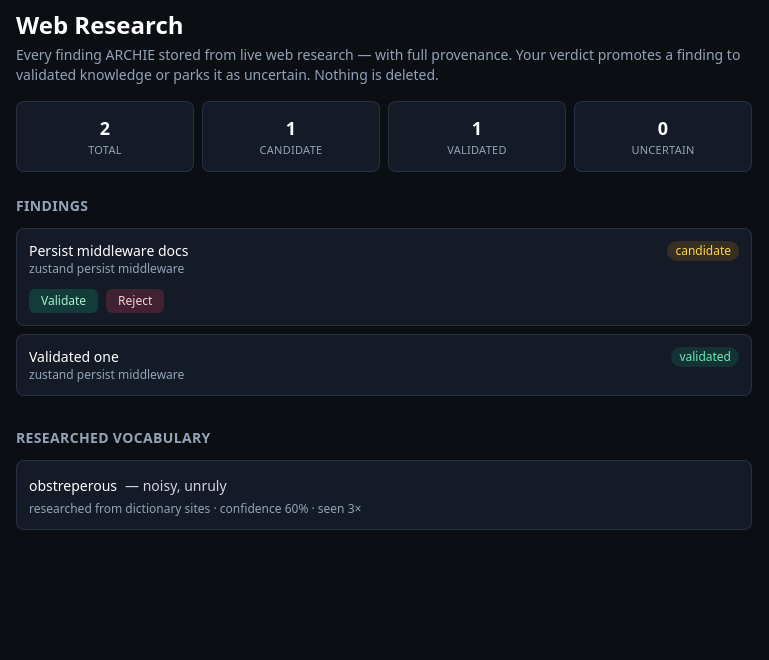
Test: ArchieResearch — provenance disclosure › expands a finding to show its REAL provenance
Step 1. Click the text "Persist middleware docs" → (109, 250), box [29,240,188,260]
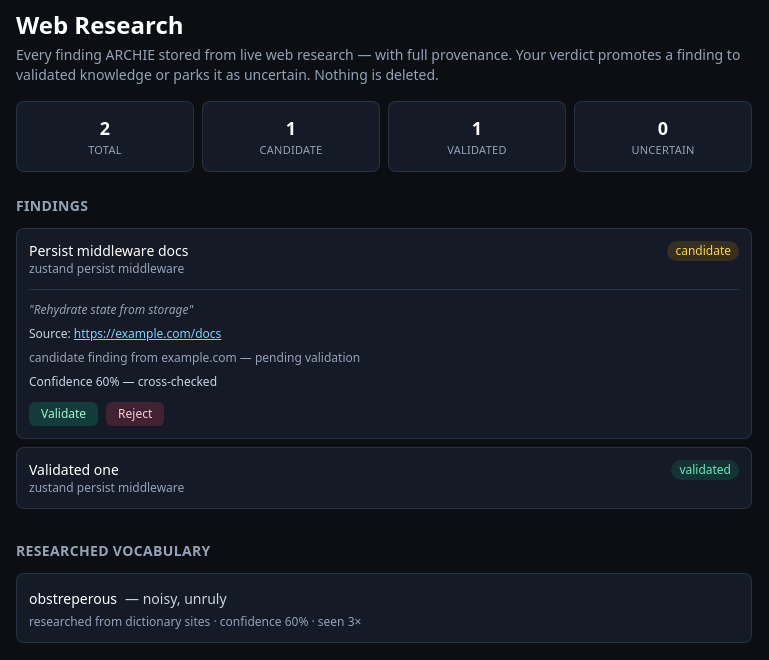
Check: the text "candidate finding from example.com — pending validation" is shown, box [29,348,360,366]
Check: the text "Confidence 60% — cross-checked" is shown, box [29,372,217,390]
Check: the link "https://example.com/docs" is shown, box [74,324,221,342]
